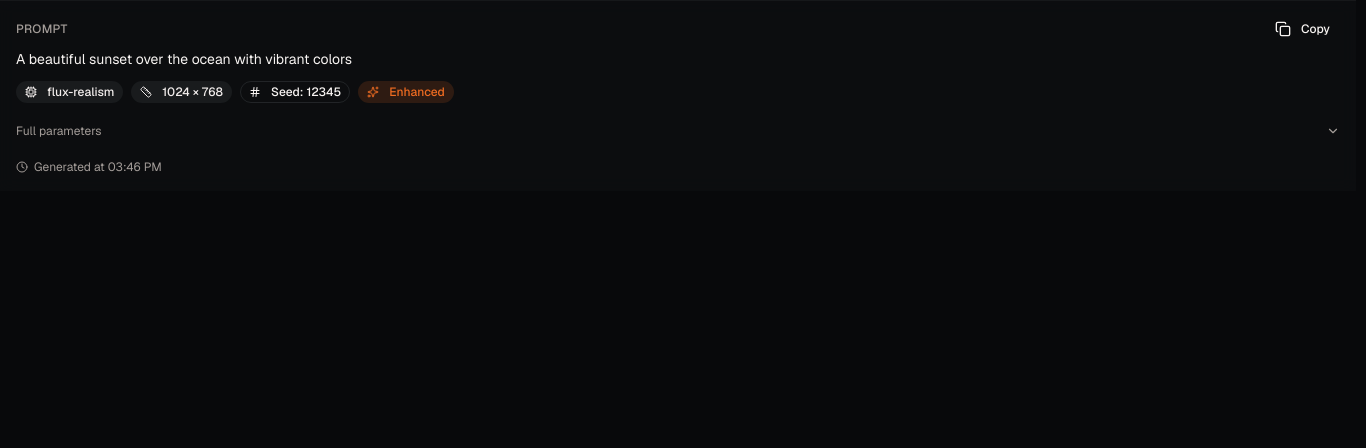
Scenario: ImageMetadata › Expanded variant › expands to show full params when clicked
Click the button with test id "expand-params": (59, 131) [16, 115, 1340, 147]
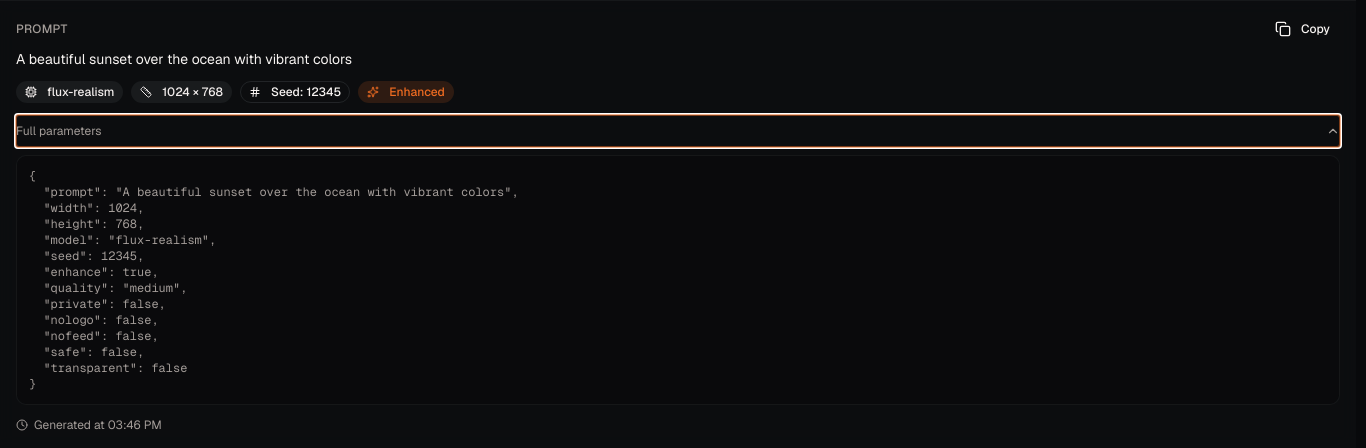
Now the element with test id "full-params" is shown, box [16, 155, 1340, 405]
